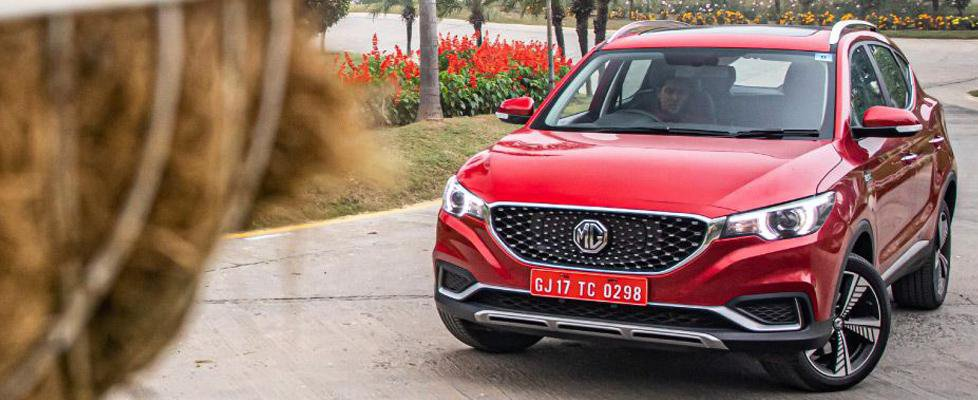car: (434, 18, 960, 385)
